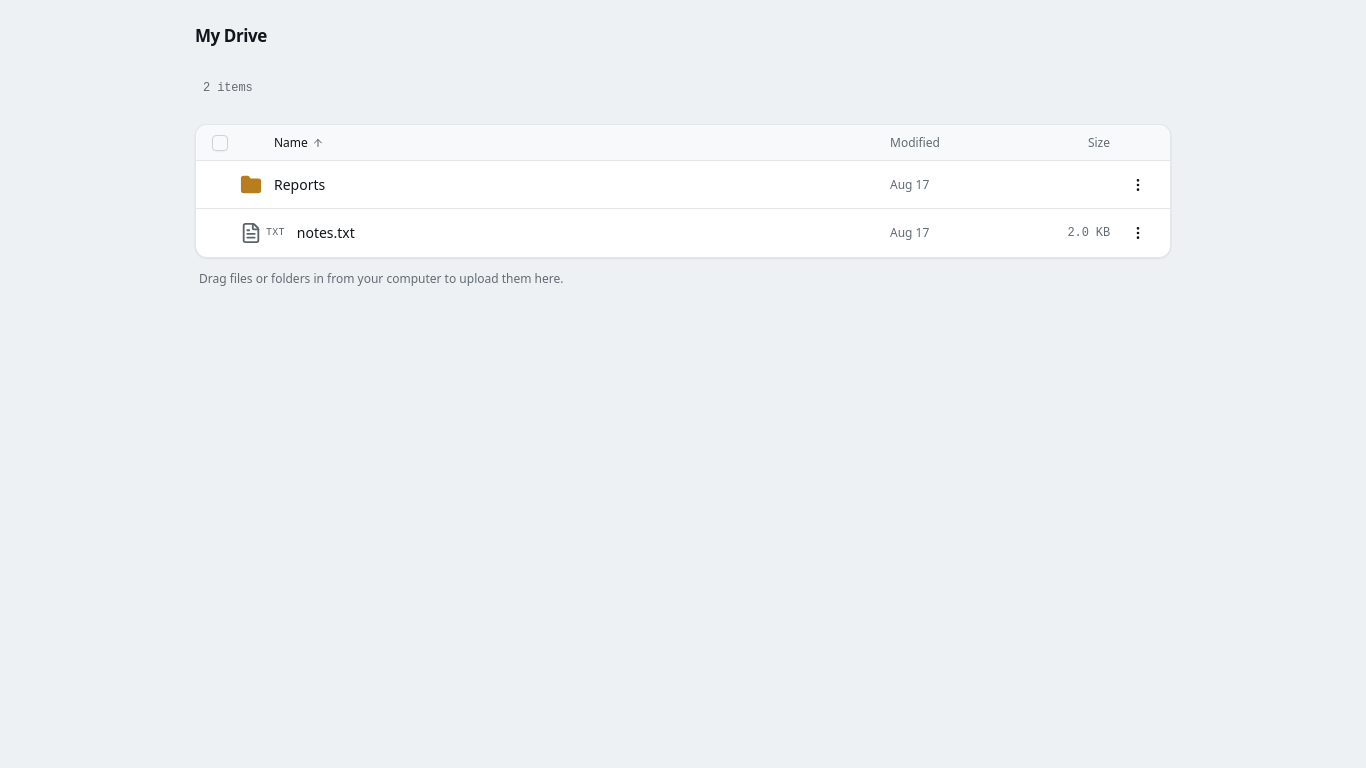
it: making a link › re-reads on a 409 and shows the link that already exists, with no error
Check: the link "notes.txt" is shown, box x1=297 y1=223 x2=355 y2=242
Step 1. Click the button named "Actions for notes.txt" → (1138, 233), box x1=1122 y1=217 x2=1154 y2=249
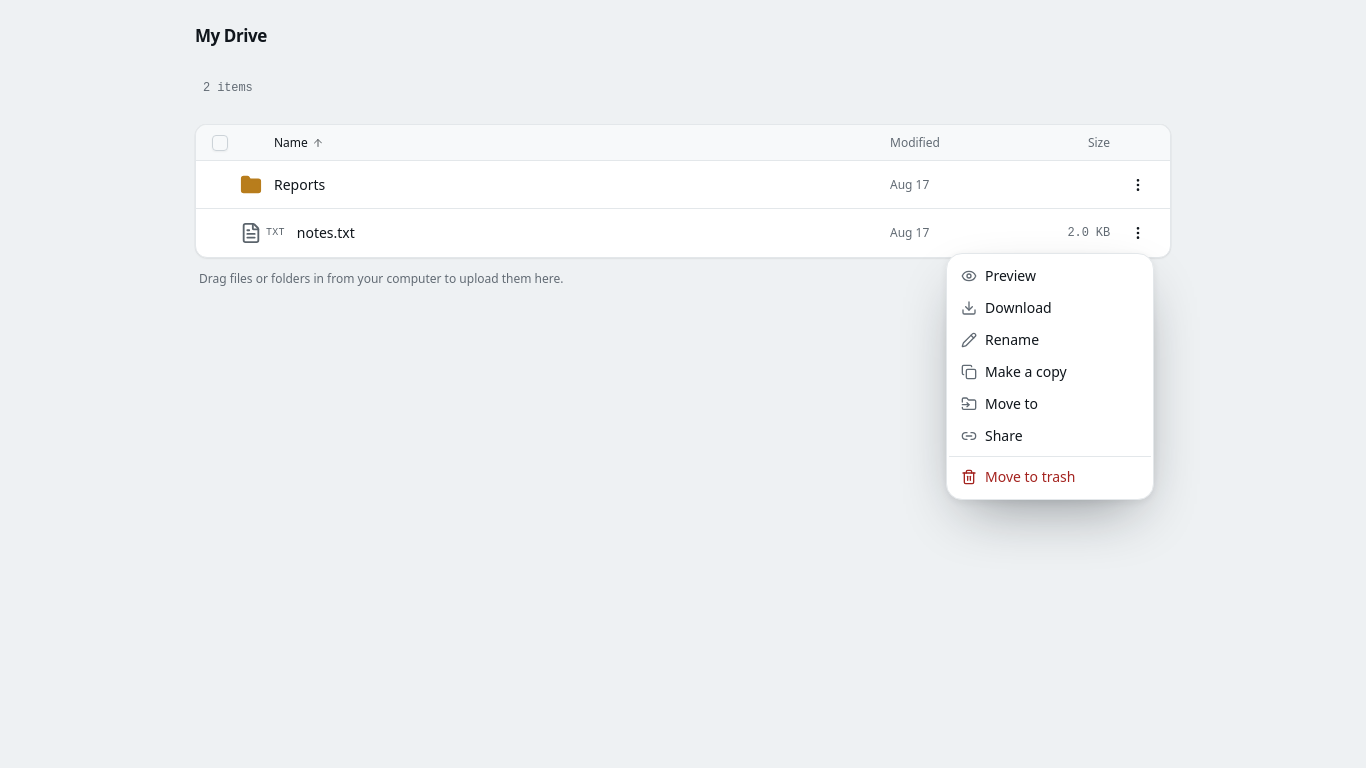
Step 2. Click the menu item "Share" → (992, 436), box x1=961 y1=426 x2=1023 y2=445
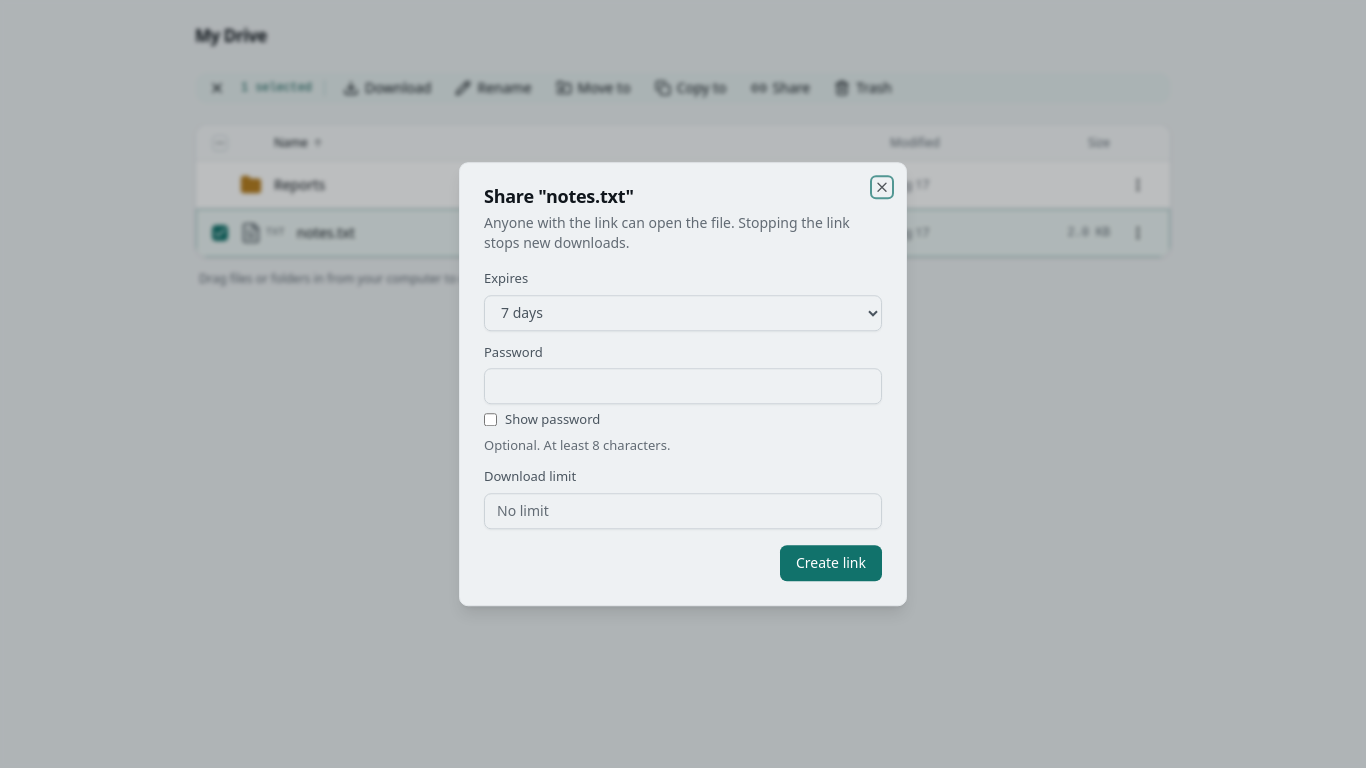
Step 3. Click the button "Create link" → (831, 563), box x1=780 y1=545 x2=882 y2=581
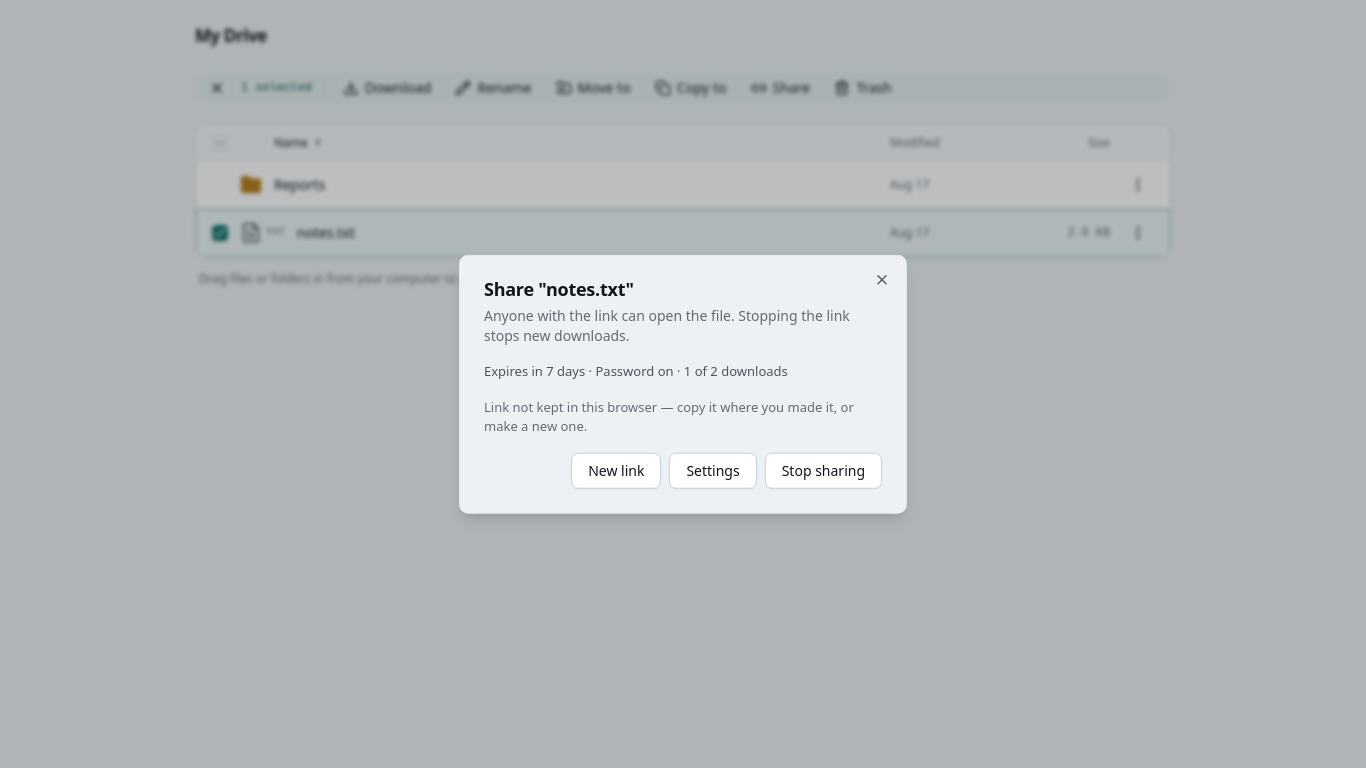
Check: the text "Expires in 7 days · Password on · 1 of 2 downloads" is shown, box x1=484 y1=362 x2=788 y2=380
Check: the button "Create link" is gone
